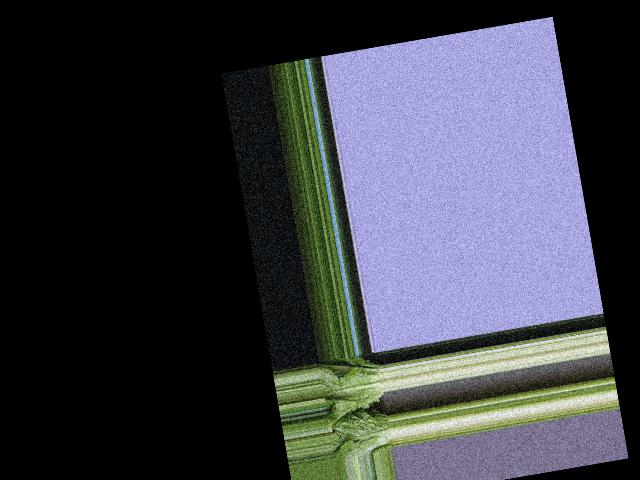lettuce: (330, 408, 394, 456)
